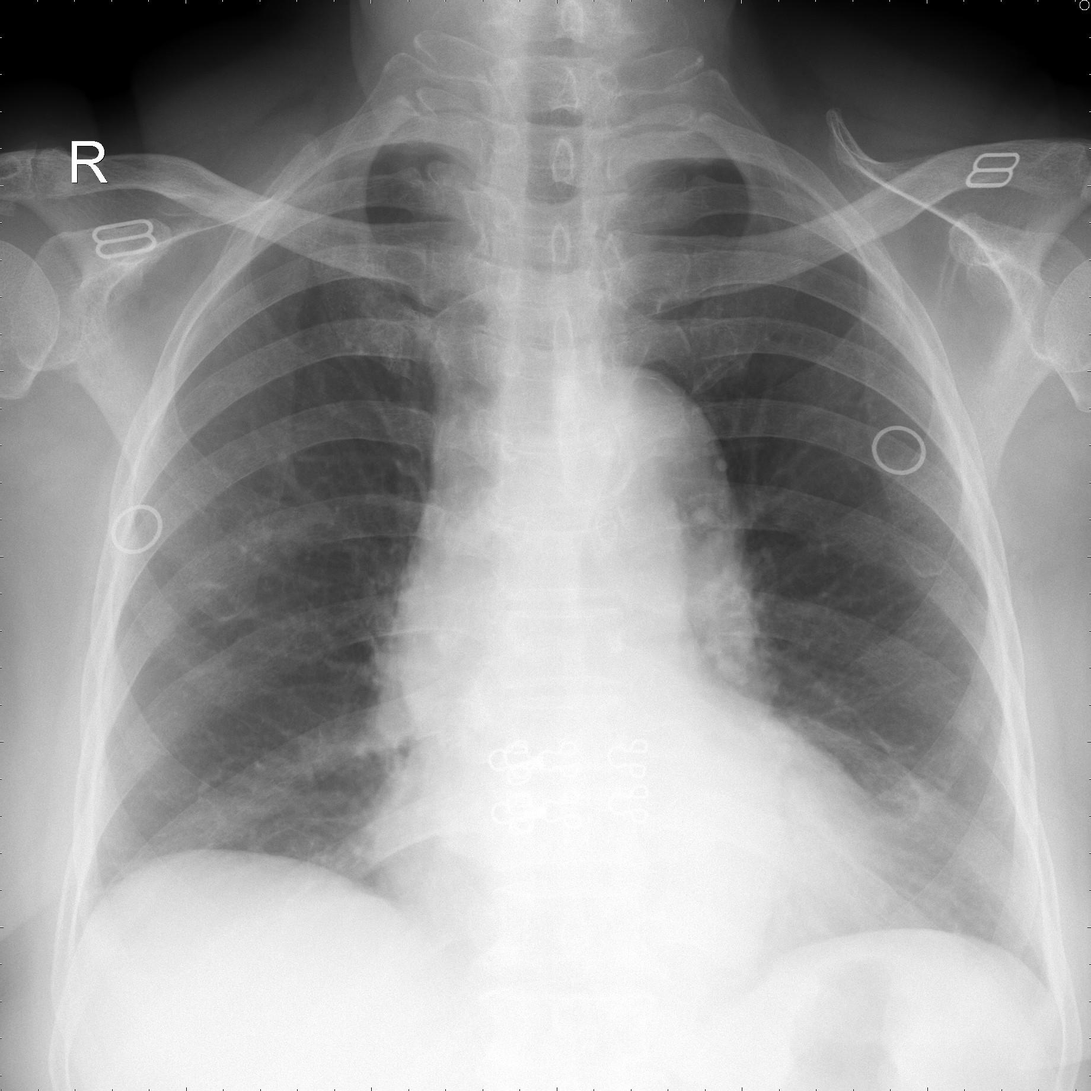Aortic enlargement: (553, 367, 754, 678)
Cardiomegaly: (371, 797, 906, 962)
